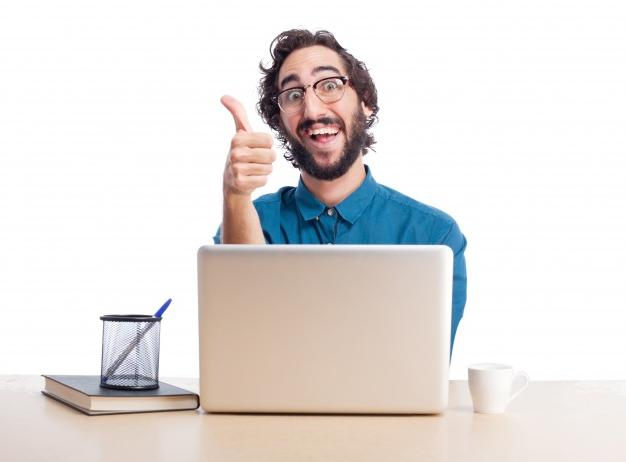thumbsup: (220, 94, 276, 190)
